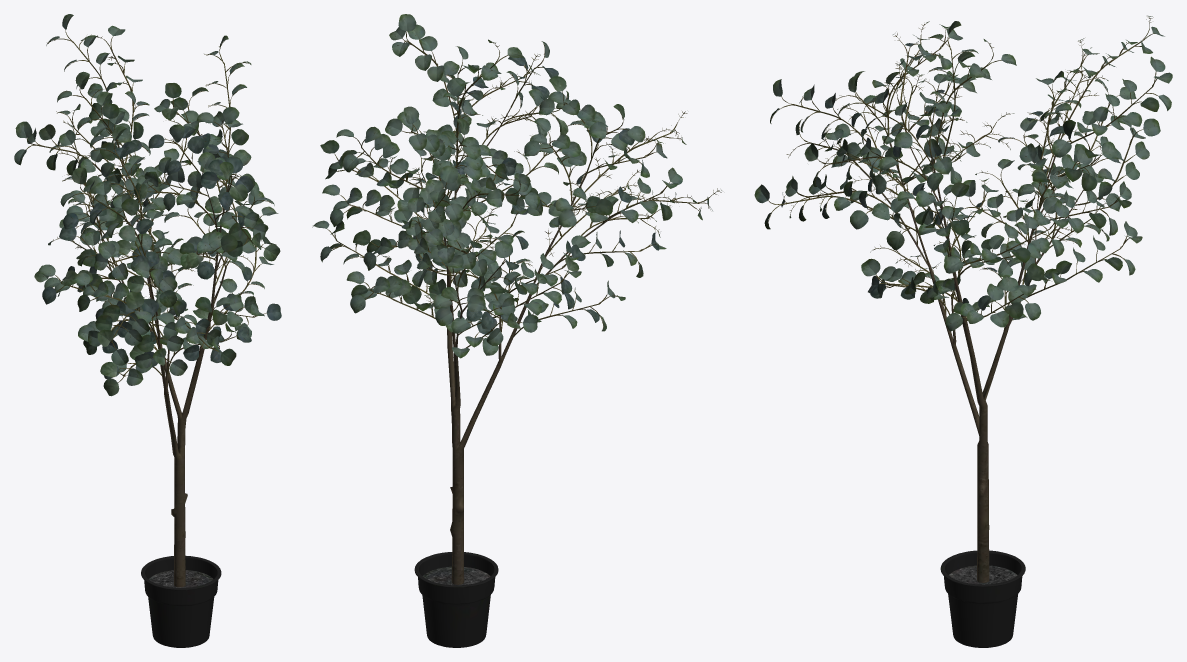
The model's file is LB-PLANT-04.glb.
3 renders of one model, left to right at view 1: azimuth 30°, elevation 25°; view 2: azimuth 150°, elevation 25°; view 3: azimuth 270°, elevation 25°, orthographic. The views are drawn at different scales.
Visible parts, largest first — view 1: 1, 2, Cylinder001, Cylinder002, 3; view 2: 1, 2, Cylinder001, Cylinder002, 3; view 3: 1, 2, Cylinder001, Cylinder002, 3.
Part boxes in pixels (x1,y1,x2,y2): 1: (14,14,281,396); 2: (26,18,277,382); Cylinder001: (141,555,221,647); Cylinder002: (84,160,251,587); 3: (149,570,213,587); 1: (312,14,721,358); 2: (326,30,721,357); Cylinder001: (414,552,498,647); Cylinder002: (434,107,620,584); 3: (422,566,490,585); 1: (754,15,1172,331); 2: (758,16,1158,330); Cylinder001: (940,550,1025,647); Cylinder002: (860,118,1083,582); 3: (948,565,1017,584).
Size of the model in its own units: 0.7946 by 1.54 by 0.944.
1 material, 1 textured.
